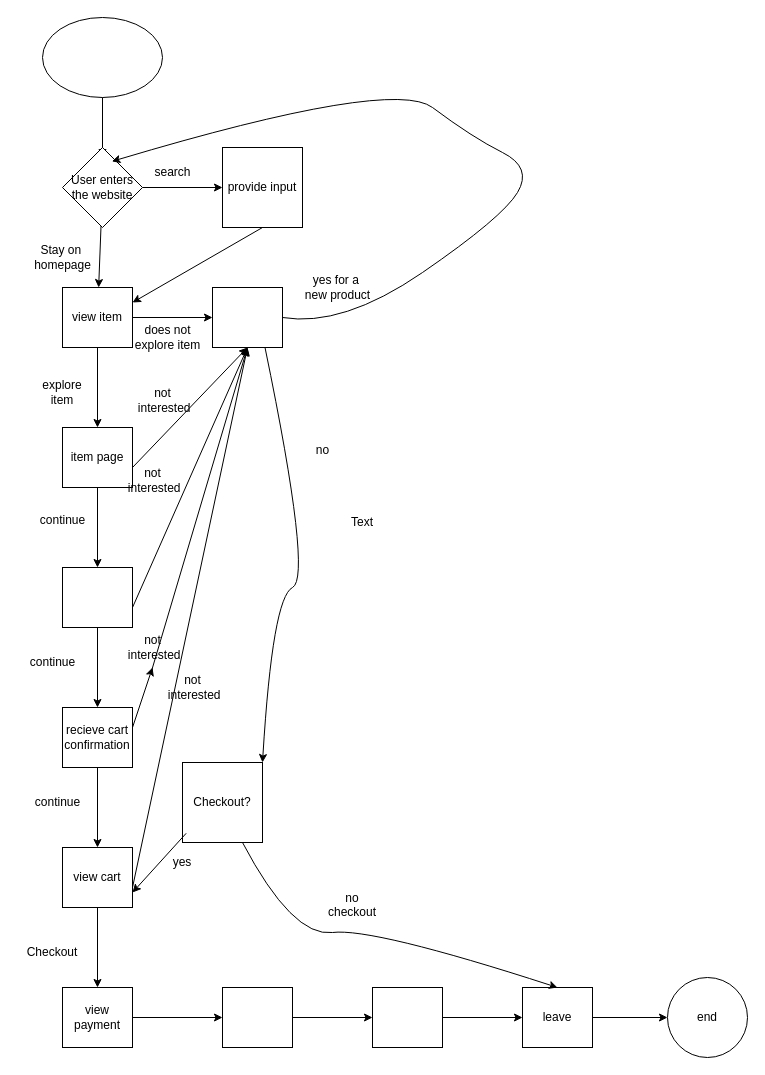
Some shapes in this 765 by 1075 pixel diagram are drawn without their labels. The shapes that lost their labels are listed below. From the top down, each one's centre as x and y in pixels, then its label:
point 102,57: Start
point 247,317: continue shopping?
point 97,597: add to cart
point 257,1017: payment info
point 407,1017: confirmation screen and email
